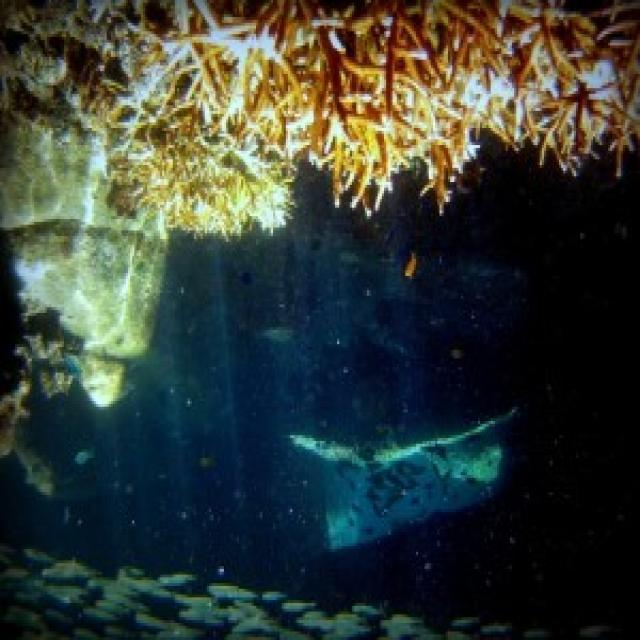Bleached: (340, 1, 640, 222), (127, 15, 318, 240)
